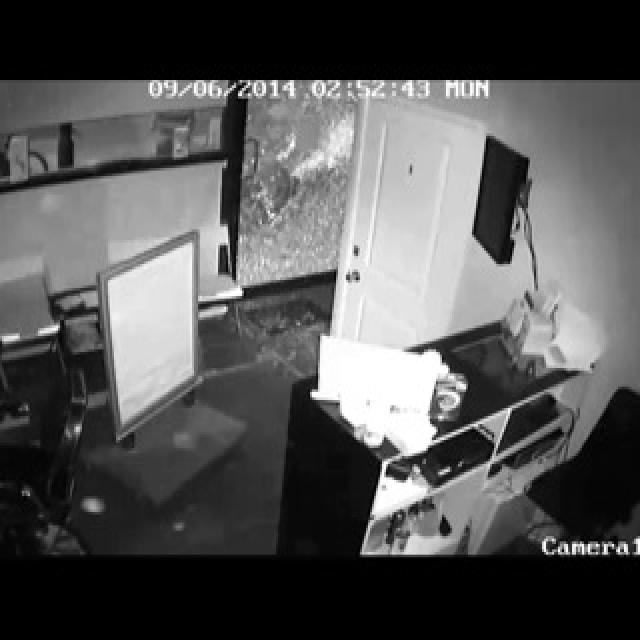burglary: (241, 130, 355, 322)
